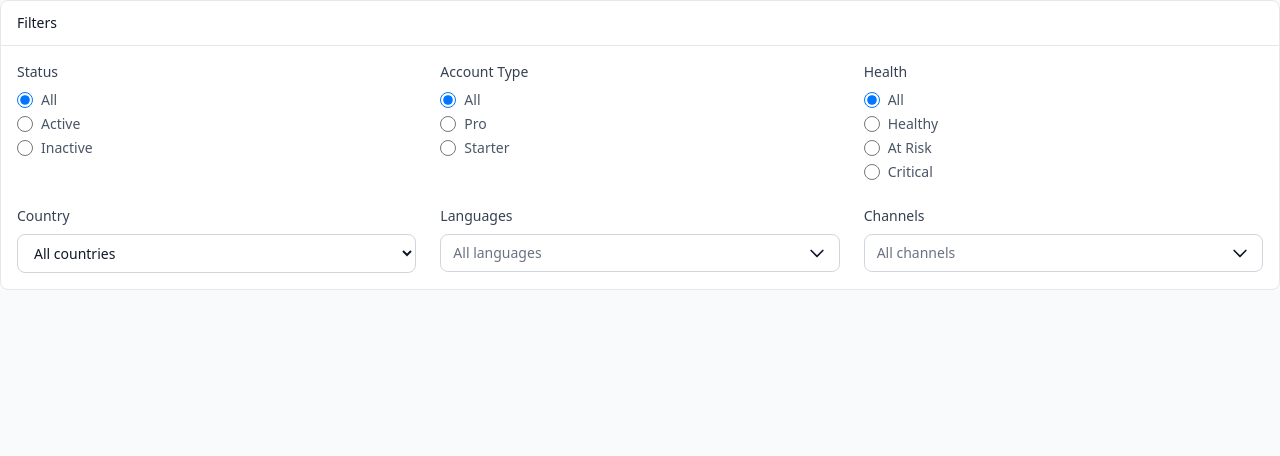
Test: FilterPanel › multi-select dropdowns › opens language dropdown on click
Click the button "All languages": (497,252) [440, 234, 840, 272]
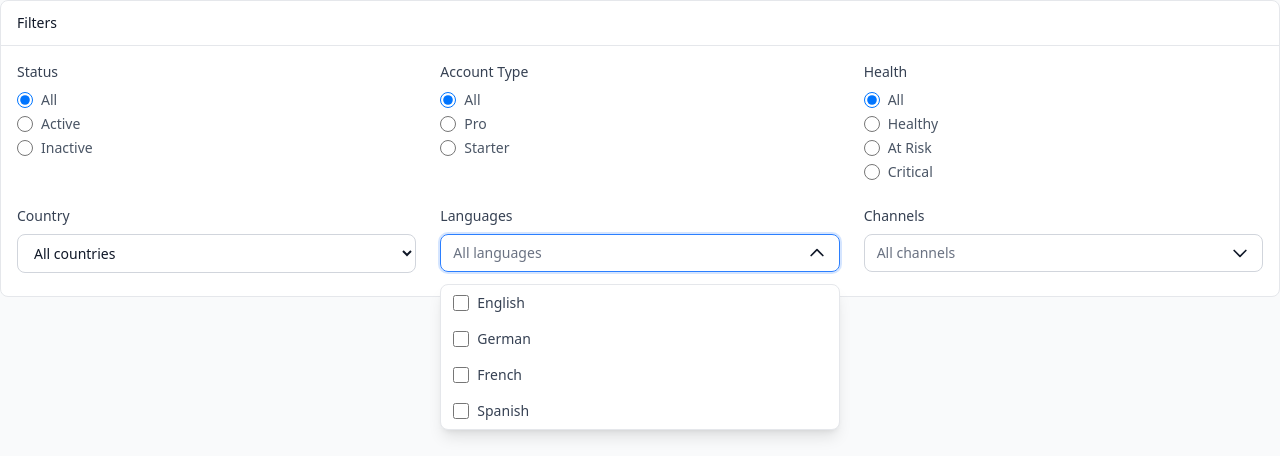
Expected: the text "English" is shown, [477, 293, 525, 313]
Expected: the text "German" is shown, [477, 329, 531, 349]
